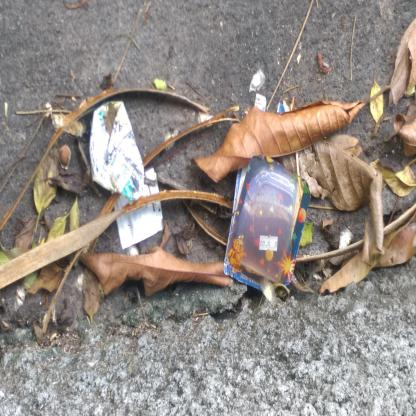diger: (89, 98, 144, 204)
karton: (224, 155, 310, 292)
